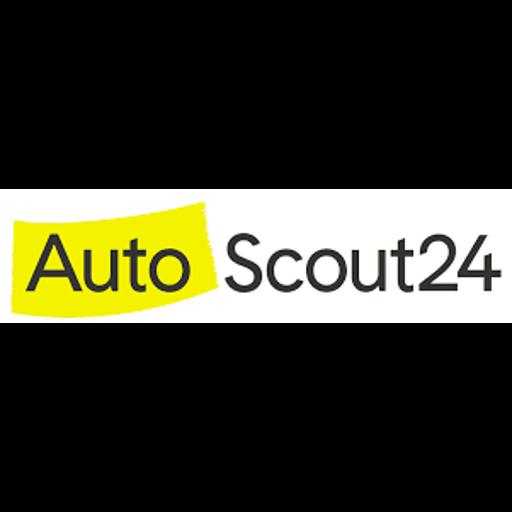AutoScout24: (0, 189, 512, 323)
